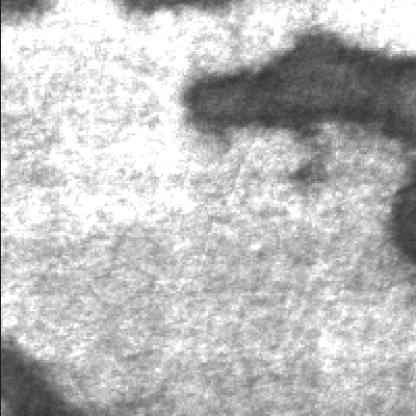patches: (187, 36, 416, 152), (2, 350, 85, 416)
